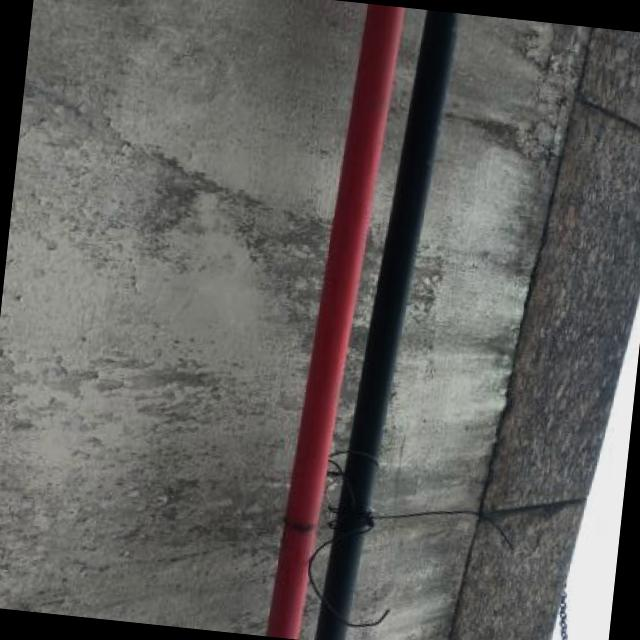gas: (317, 11, 457, 640), (269, 3, 400, 640)
